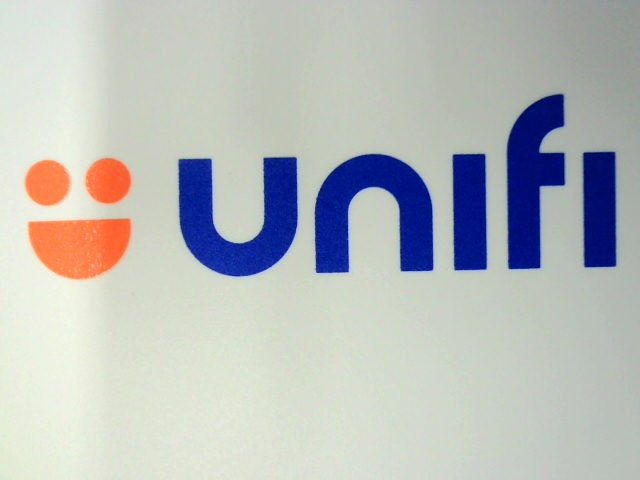BN_unifi: (11, 91, 628, 290)
